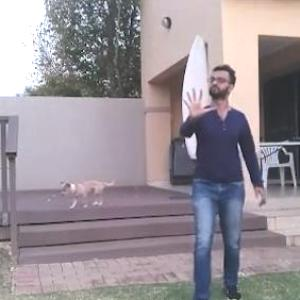follow_hand: (178, 81, 218, 124)
